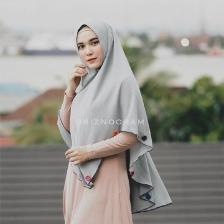HijabSyar-i: (56, 12, 181, 215)
